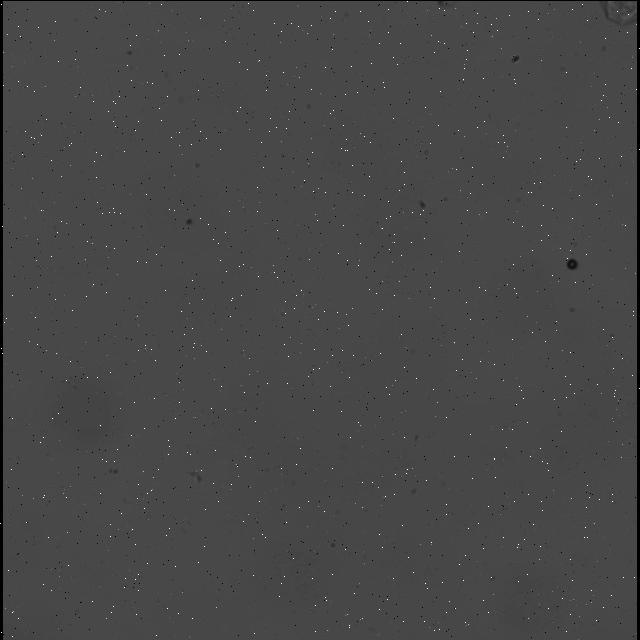microbeads: (564, 257, 578, 269)
